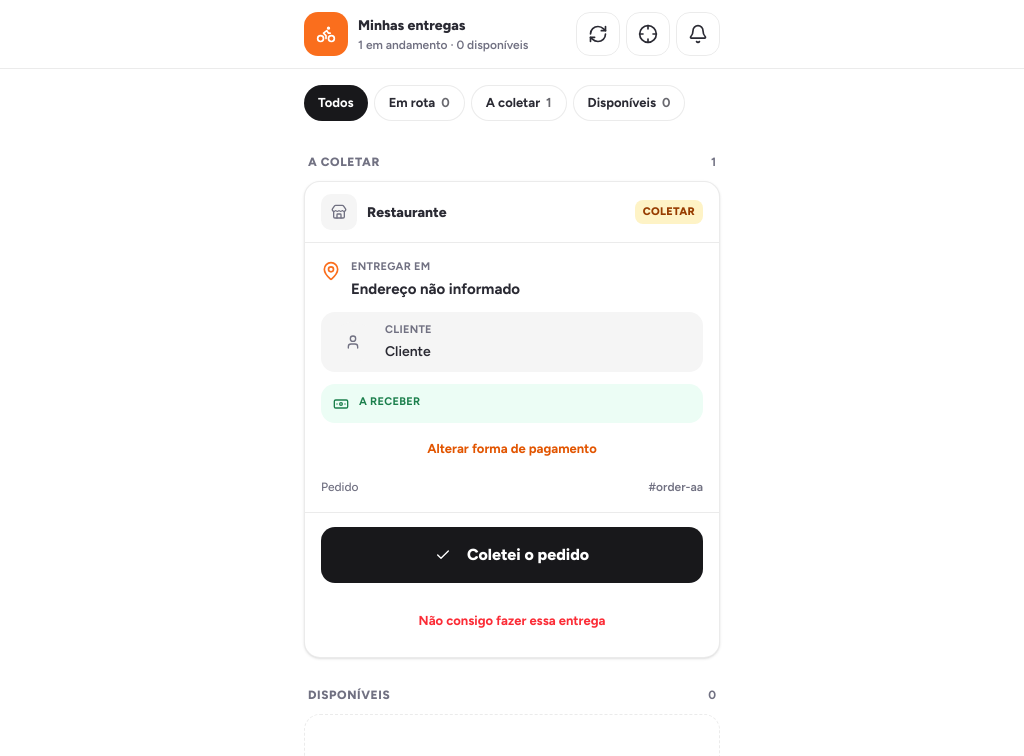
Test: DeliveryDashboardPage - forma de pagamento › owner altera a forma direto, sem passar pelo aviso
The width and height of the screenshot is (1024, 756).
Click the button "Alterar forma de pagamento" at (512, 448), box x1=321 y1=430 x2=703 y2=466
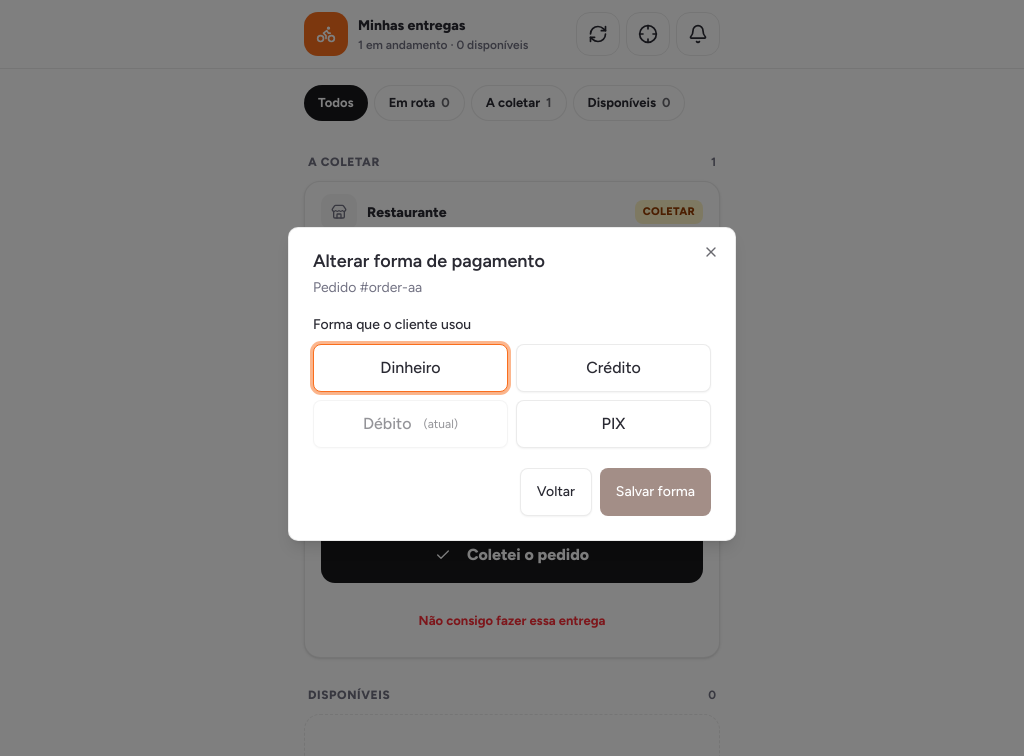
Click the button "Crédito" at (614, 368), box x1=516 y1=344 x2=711 y2=392
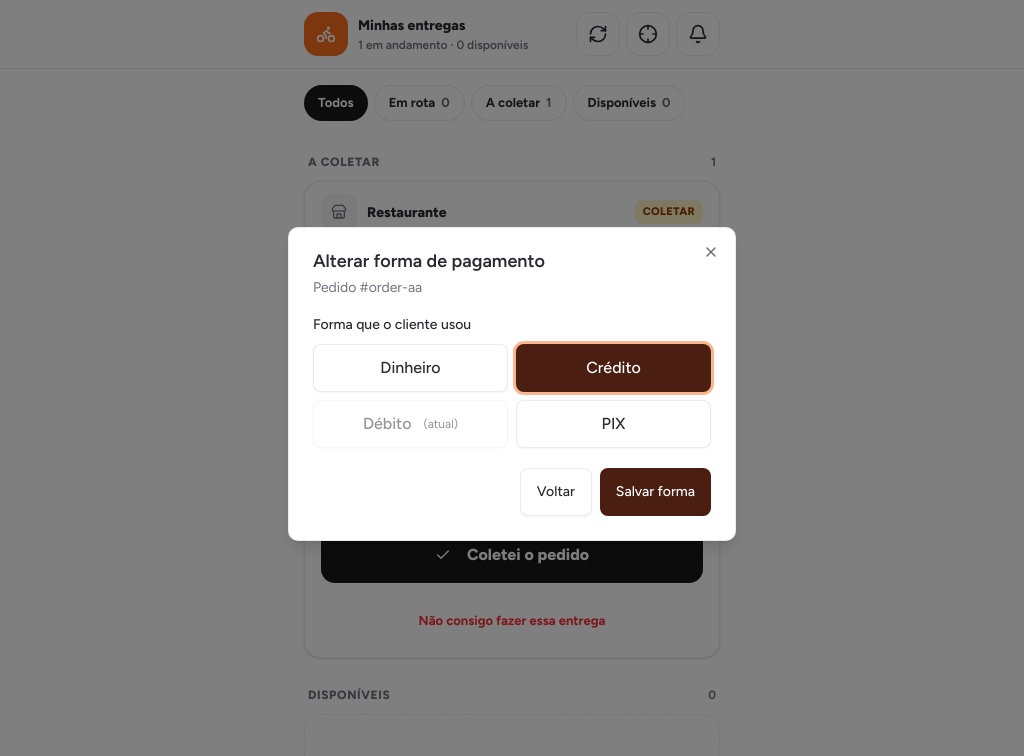
Click the button "Salvar forma" at (655, 492), box x1=600 y1=468 x2=711 y2=516
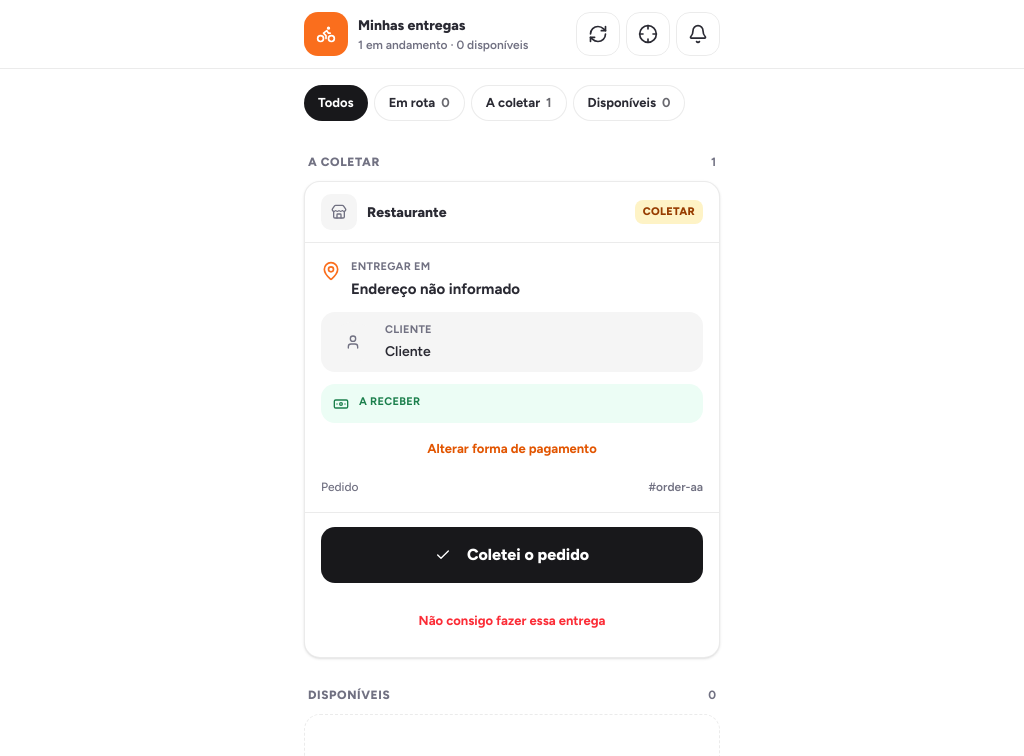
Expected: the dialog is gone
